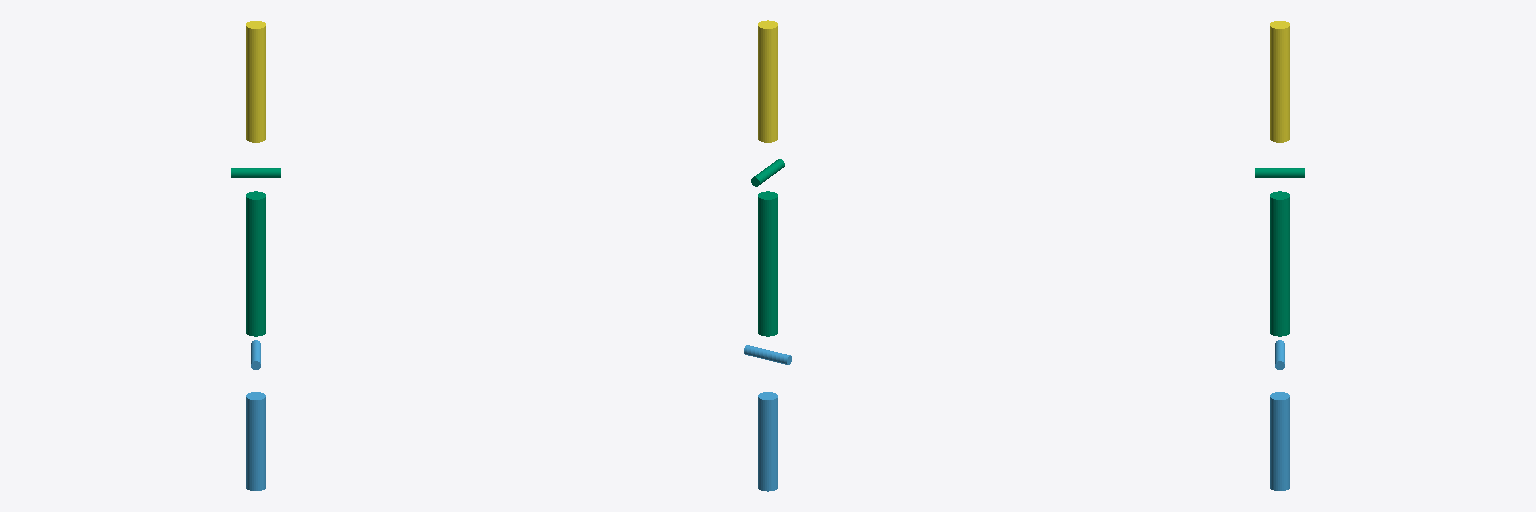
URDF robot description (2DrobotArm):
<robot name="2DrobotArm">
    <link name="world"/>

    <link name="link1">
        <visual>
            <origin rpy="0 0 0" xyz="0 0 0.11"/>
            <geometry>
                <cylinder length="0.2" radius="0.02"/>
            </geometry>
        </visual>
        <visual>
            <origin rpy="0 1.57079632679 0" xyz="0 0 0.3"/>
            <geometry>
                <cylinder length="0.1" radius="0.01"/>
            </geometry>
        </visual>
        <collision>
            <origin rpy="0 0 0" xyz="0 0 0.11"/>
            <geometry>
                <cylinder length="0.2" radius="0.02"/>
            </geometry>
        </collision>
        <inertial>
            <origin rpy="0 0 0" xyz="0.0 0.0 0.2"/>
            <mass value="1"/>
            <inertia ixx="0.001" ixy="0" ixz="0" iyy="0.001" iyz="0" izz="0.001"/>
        </inertial>
    </link>

    <joint name="worldTolink1" type="fixed">
        <parent link="world"/>
        <child link="link1"/>
        <origin xyz="0 0 0"/>
    </joint>

    <link name="link2">
        <visual>
            <origin rpy="0 0 0" xyz="0 0 0.2"/>
            <geometry>
                <cylinder length="0.3" radius="0.02"/>
            </geometry>
        </visual>
        <visual>
            <origin rpy="1.57079632679 0 0" xyz="0 0 0.4"/>
            <geometry>
                <cylinder length="0.1" radius="0.01"/>
            </geometry>
        </visual>
        <collision>
            <origin rpy="0 0 0" xyz="0 0 0.2"/>
            <geometry>
                <cylinder length="0.3" radius="0.02"/>
            </geometry>
        </collision>
        <inertial>
            <origin rpy="0 0 0" xyz="0.0 0.0 0.2"/>
            <mass value="1"/>
            <inertia ixx="0.001" ixy="0" ixz="0" iyy="0.001" iyz="0" izz="0.001"/>
        </inertial>
    </link>

    <joint name="link1Tolink2" type="revolute">
        <parent link="link1"/>
        <child link="link2"/>
        <origin xyz="0 0 0.3"/>
        <axis xyz="1 0 0"/>
        <limit effort="80" lower="-6.28" upper="6.28" velocity="15"/>
    </joint>

    <link name="link3">
        <visual>
            <origin rpy="0 0 0" xyz="0 0 0.2"/>
            <geometry>
                <cylinder length="0.25" radius="0.02"/>
            </geometry>
        </visual>
        <collision>
            <origin rpy="0 0 0" xyz="0 0 0.2"/>
            <geometry>
                <cylinder length="0.25" radius="0.02"/>
            </geometry>
        </collision>
        <inertial>
            <origin rpy="0 0 0" xyz="0.0 0.0 0.2"/>
            <mass value="1"/>
            <inertia ixx="0.001" ixy="0" ixz="0" iyy="0.001" iyz="0" izz="0.001"/>
        </inertial>
    </link>

    <joint name="link2Tolink3" type="revolute">
        <parent link="link2"/>
        <child link="link3"/>
        <origin xyz="0 0 0.4"/>
        <axis xyz="0 1 0"/>
        <limit effort="80" lower="-6.28" upper="6.28" velocity="15"/>
    </joint>
</robot>

--- Render facts (derived) ---
Views: 3 orthographic renders of the robot side by side, from view 1: azimuth 90°, elevation 25°; view 2: azimuth 150°, elevation 25°; view 3: azimuth 270°, elevation 25°.
Robot: 2DrobotArm — 4 links, 3 joints (2 revolute, 1 fixed); root link world; default pose: every joint at zero.
Links seen in each view (by area): view 1: link2, link3, link1; view 2: link2, link1, link3; view 3: link2, link3, link1.
Boxes of the visible links, bbox=[...] form: link2: bbox=[231, 168, 280, 336]; link3: bbox=[246, 21, 265, 142]; link1: bbox=[246, 340, 265, 490]; link2: bbox=[751, 159, 784, 336]; link1: bbox=[744, 345, 791, 491]; link3: bbox=[758, 20, 777, 142]; link2: bbox=[1255, 168, 1304, 336]; link3: bbox=[1270, 21, 1289, 142]; link1: bbox=[1270, 340, 1289, 490].
Size in the robot's own frame: 0.1 by 0.1 by 1.01 metres.
Geometry: primitives only (box / cylinder / sphere), no mesh files.
